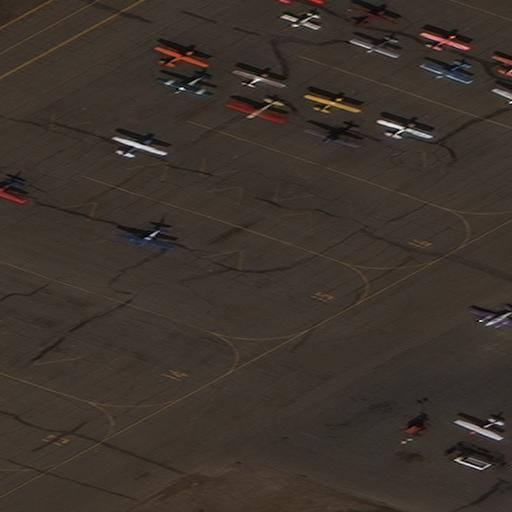Small Civil Transport: (154, 72, 211, 98), (115, 225, 171, 250), (225, 99, 282, 123), (112, 136, 167, 157), (303, 127, 355, 149), (155, 46, 209, 66), (418, 62, 467, 84), (305, 93, 361, 112), (453, 418, 498, 441), (348, 37, 397, 58), (379, 119, 433, 138), (467, 307, 512, 328), (421, 31, 471, 49), (234, 69, 285, 86), (352, 6, 395, 26), (279, 13, 316, 30), (0, 177, 22, 204), (494, 55, 512, 76), (490, 89, 512, 106)
